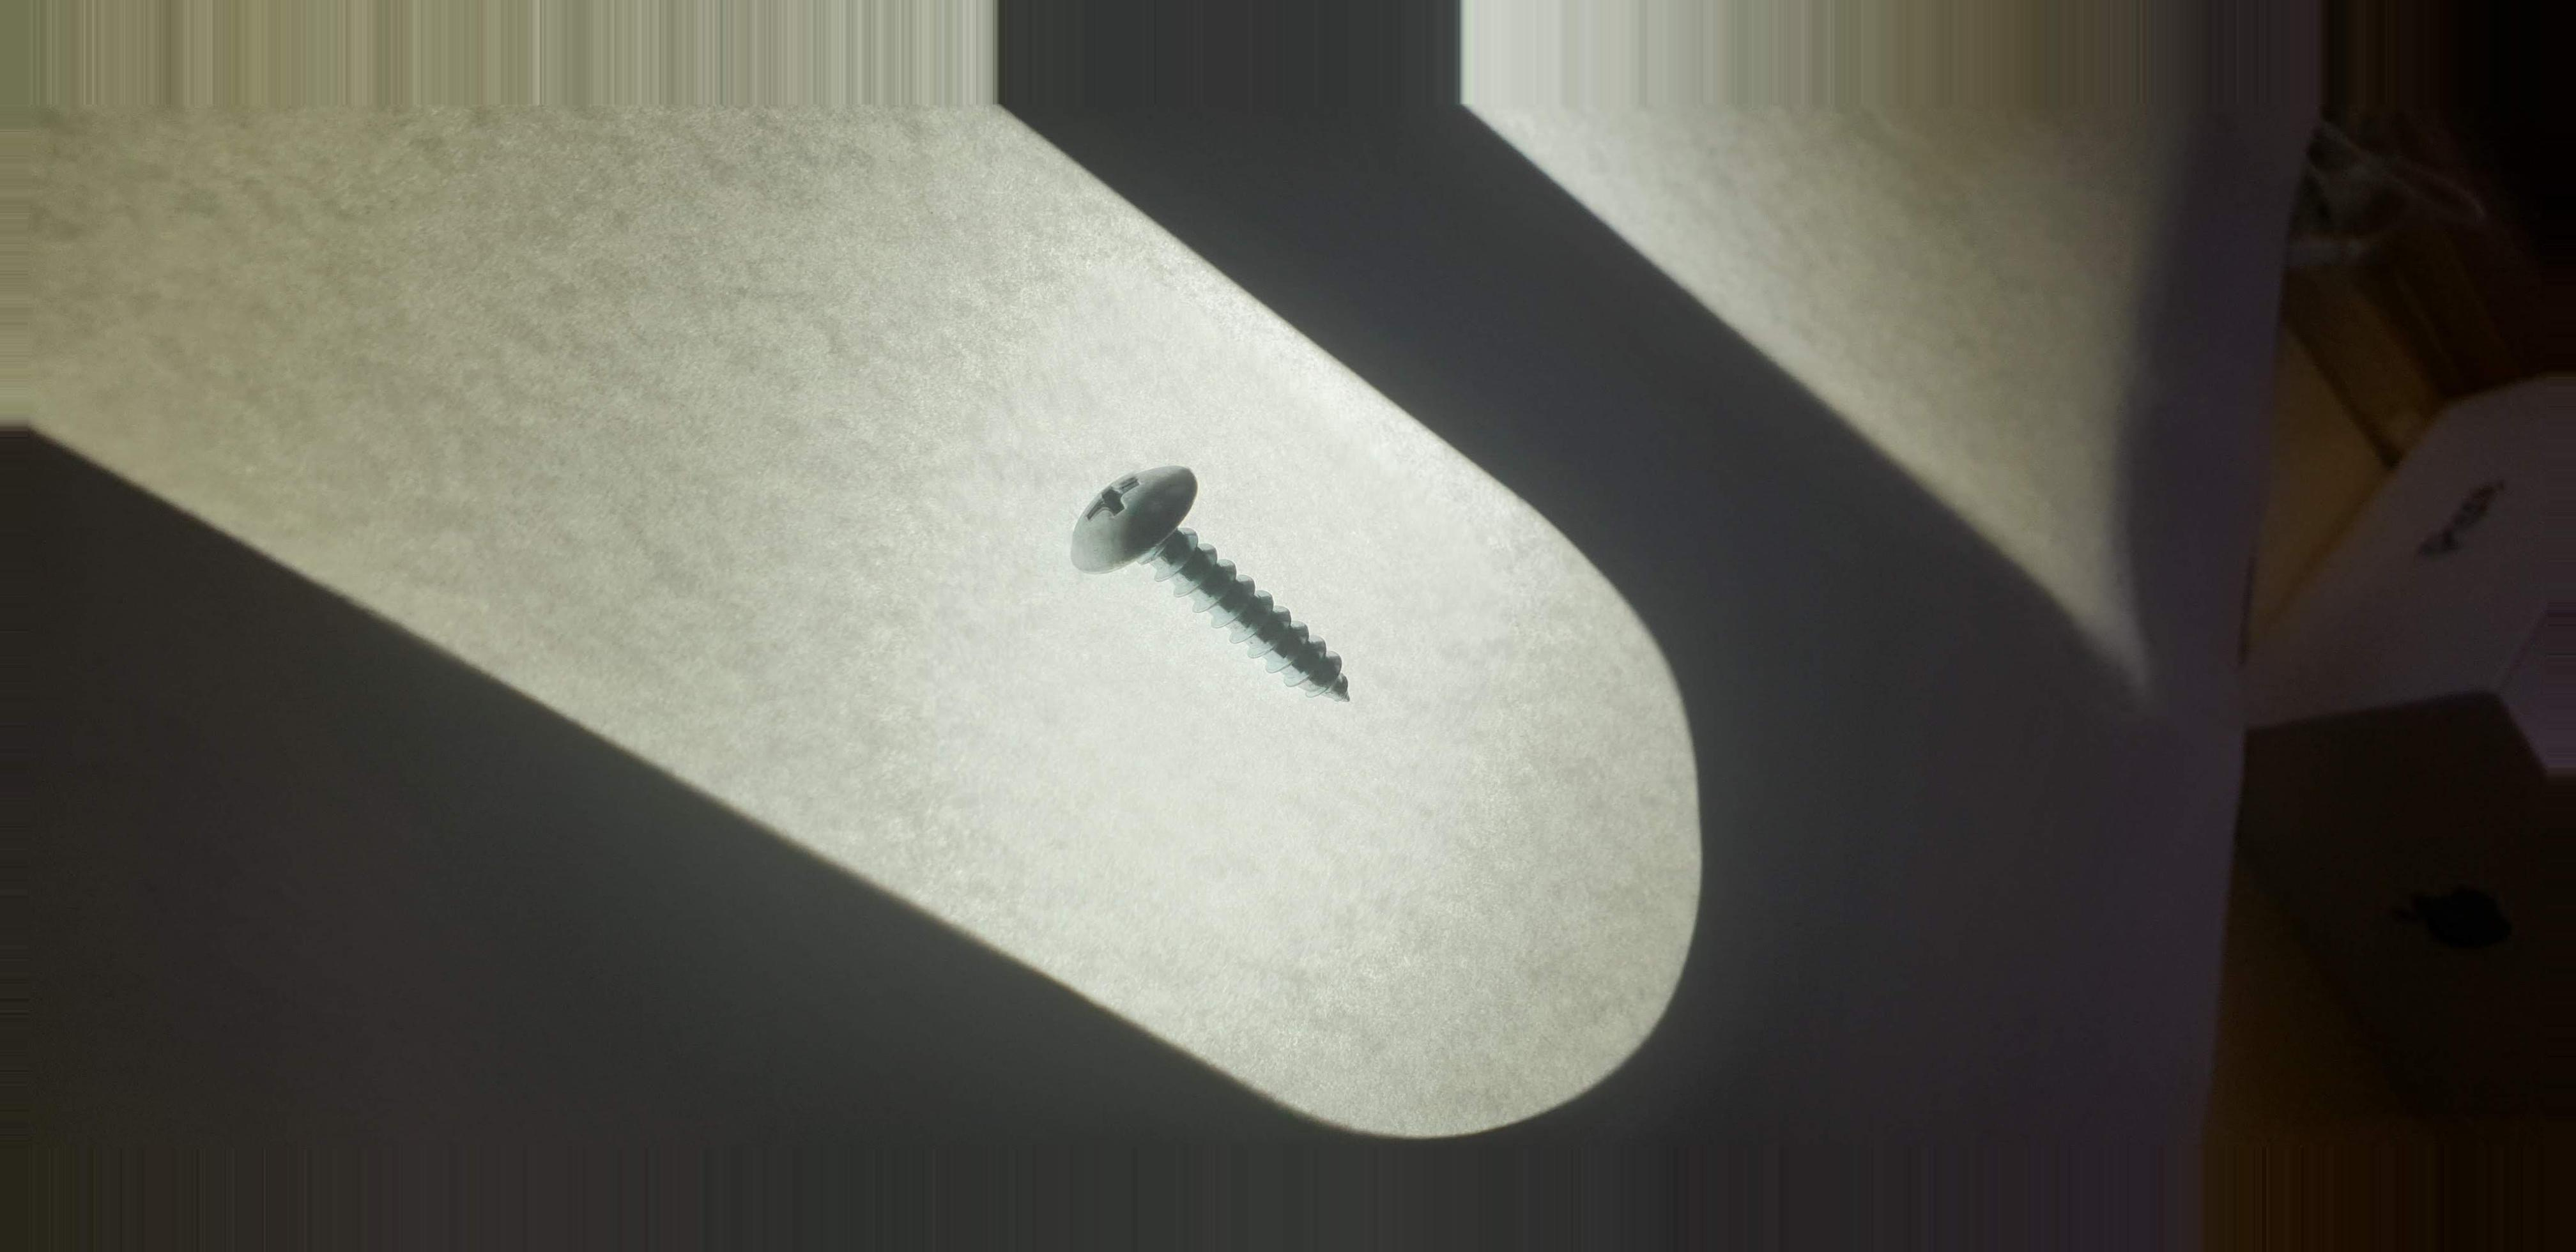S002: (1042, 429, 1385, 764)
